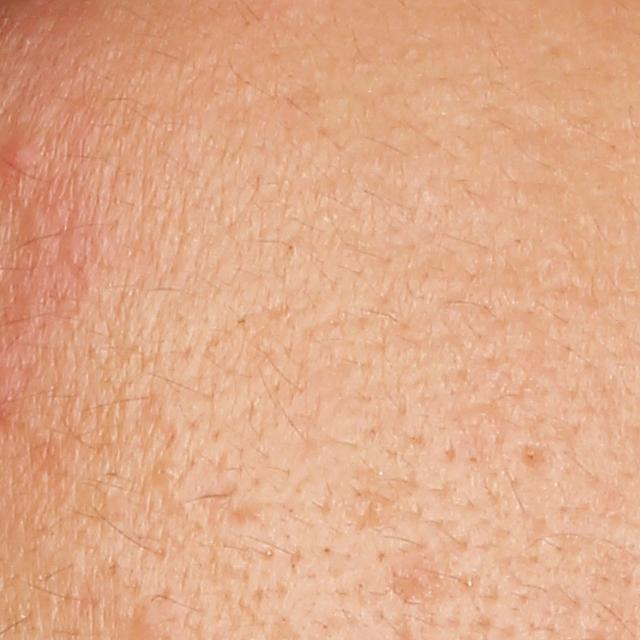atrophic_scar: (515, 443, 553, 474)
comedo: (151, 455, 182, 487), (65, 245, 87, 268)
